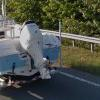Boat: (0, 22, 64, 81)
